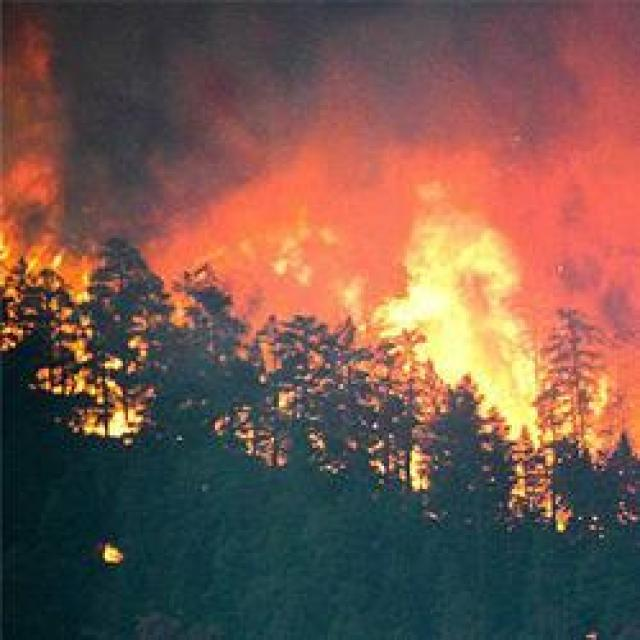Fire: (386, 252, 558, 452)
Smoke: (31, 21, 640, 412)
